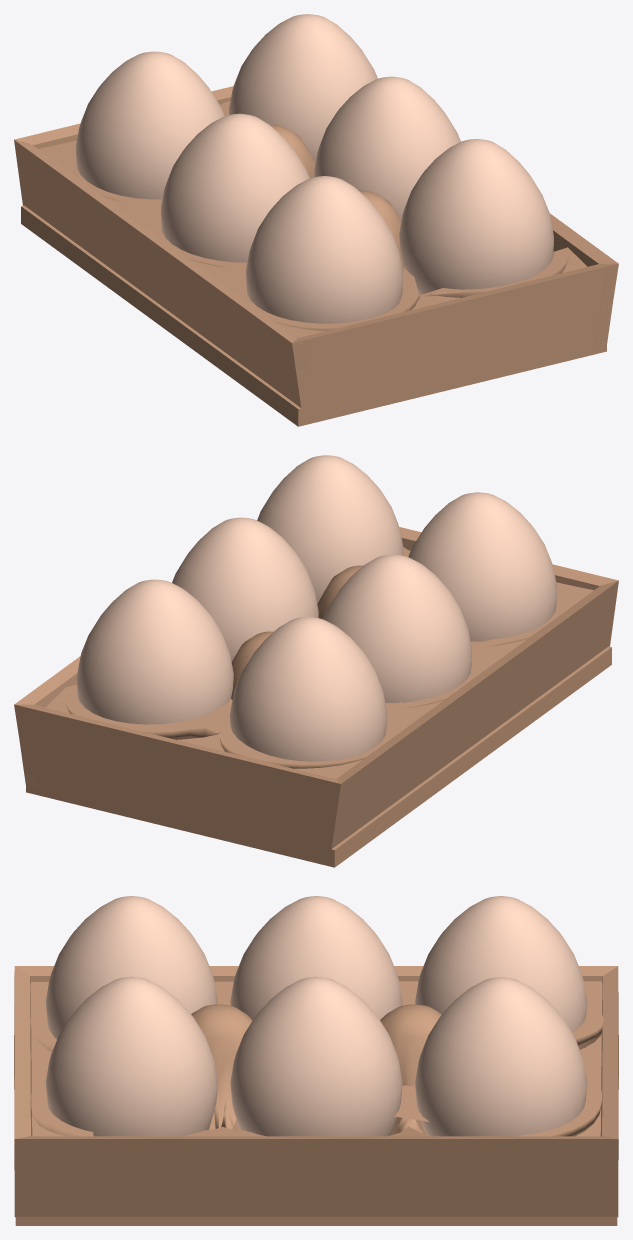
The model's file is eggcarton.fbx.
The picture shows the model from 3 angles, top to bottom: view 1: azimuth 30°, elevation 25°; view 2: azimuth 150°, elevation 25°; view 3: azimuth 270°, elevation 25°; orthographic projection. The views are drawn at different scales.
Visible parts, largest first — view 1: Cube.004, Cube.003, Sphere.003, Sphere.007, Sphere.005, Sphere.006, Sphere.002, Sphere, Cube.005, Cube, Cube.001, Cube.002 (+2 smaller); view 2: Cube.002, Cube.003, Sphere.002, Sphere.006, Sphere.007, Sphere.005, Sphere, Sphere.003, Cube, Cube.005, Cube.001, Cube.004 (+2 smaller); view 3: Cube.001, Sphere, Sphere.003, Sphere.002, Sphere.007, Sphere.006, Sphere.005, Cube, Cube.005, Sphere.004, Cube.004, Cube.002 (+2 smaller).
Boxes of the visible parts, x1,y1,x2,y2 form: Cube.004: (292, 263, 618, 418); Cube.003: (14, 140, 308, 407); Sphere.003: (399, 139, 553, 295); Sphere.007: (246, 176, 402, 323); Sphere.005: (161, 113, 309, 262); Sphere.006: (75, 51, 224, 199); Sphere.002: (229, 14, 377, 162); Sphere: (314, 76, 460, 220); Cube.005: (21, 205, 606, 426); Cube: (38, 101, 587, 338); Cube.001: (549, 213, 618, 346); Cube.002: (14, 86, 233, 205); Cube.002: (14, 704, 340, 859); Cube.003: (331, 580, 618, 848); Sphere.002: (76, 579, 233, 724); Sphere.006: (230, 617, 386, 761); Sphere.007: (408, 492, 557, 641); Sphere.005: (323, 554, 471, 702); Sphere: (172, 517, 318, 661); Sphere.003: (257, 455, 403, 603); Cube: (46, 547, 593, 778); Cube.005: (26, 646, 611, 867); Cube.001: (14, 656, 80, 787); Cube.004: (399, 527, 618, 646); Cube.001: (14, 1136, 618, 1217); Sphere: (230, 976, 402, 1136); Sphere.003: (45, 976, 217, 1136); Sphere.002: (415, 977, 587, 1136); Sphere.007: (45, 896, 217, 1039); Sphere.006: (415, 896, 587, 1032); Sphere.005: (230, 896, 402, 1020); Cube: (30, 981, 603, 1136); Cube.005: (15, 1216, 617, 1225); Sphere.004: (191, 1004, 252, 1129); Cube.004: (14, 966, 32, 1159); Cube.002: (600, 966, 618, 1159).
Bounding box in the file's own units: 162 × 89.66 × 239.
